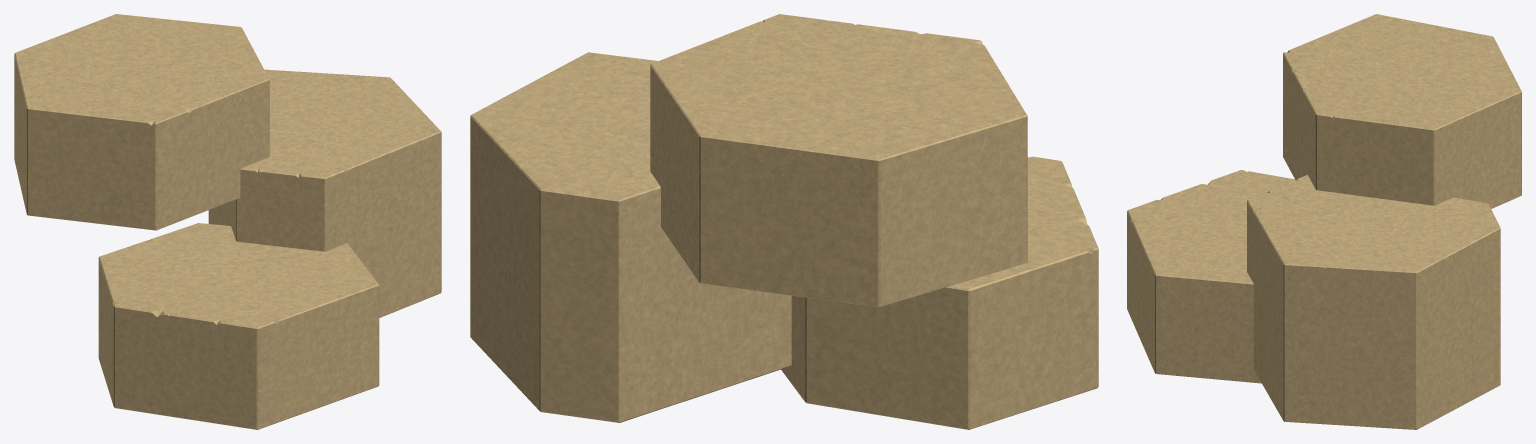
File: OrirockConcentration_ViewSize.fbx
3 renders of one model, left to right at view 1: azimuth 30°, elevation 25°; view 2: azimuth 150°, elevation 25°; view 3: azimuth 270°, elevation 25°, orthographic. The views are drawn at different scales.
Parts seen in each view (by area): view 1: 提纯源岩_前方_宽扁断块, 提纯源岩_左后_宽顶短壁, 提纯源岩_右后_斜切与下阶; view 2: 提纯源岩_左后_宽顶短壁, 提纯源岩_右后_斜切与下阶, 提纯源岩_前方_宽扁断块; view 3: 提纯源岩_右后_斜切与下阶, 提纯源岩_左后_宽顶短壁, 提纯源岩_前方_宽扁断块.
Boxes of the visible parts, left/top/right/bottom form: 提纯源岩_前方_宽扁断块: left=98, top=223, right=379, bottom=429; 提纯源岩_左后_宽顶短壁: left=14, top=14, right=269, bottom=230; 提纯源岩_右后_斜切与下阶: left=208, top=69, right=441, bottom=317; 提纯源岩_左后_宽顶短壁: left=650, top=14, right=1027, bottom=307; 提纯源岩_右后_斜切与下阶: left=470, top=52, right=791, bottom=422; 提纯源岩_前方_宽扁断块: left=781, top=156, right=1098, bottom=429; 提纯源岩_右后_斜切与下阶: left=1247, top=175, right=1500, bottom=429; 提纯源岩_左后_宽顶短壁: left=1283, top=14, right=1521, bottom=208; 提纯源岩_前方_宽扁断块: left=1127, top=170, right=1294, bottom=383.
Bounding box in the file's own units: 163 × 103 × 149.
